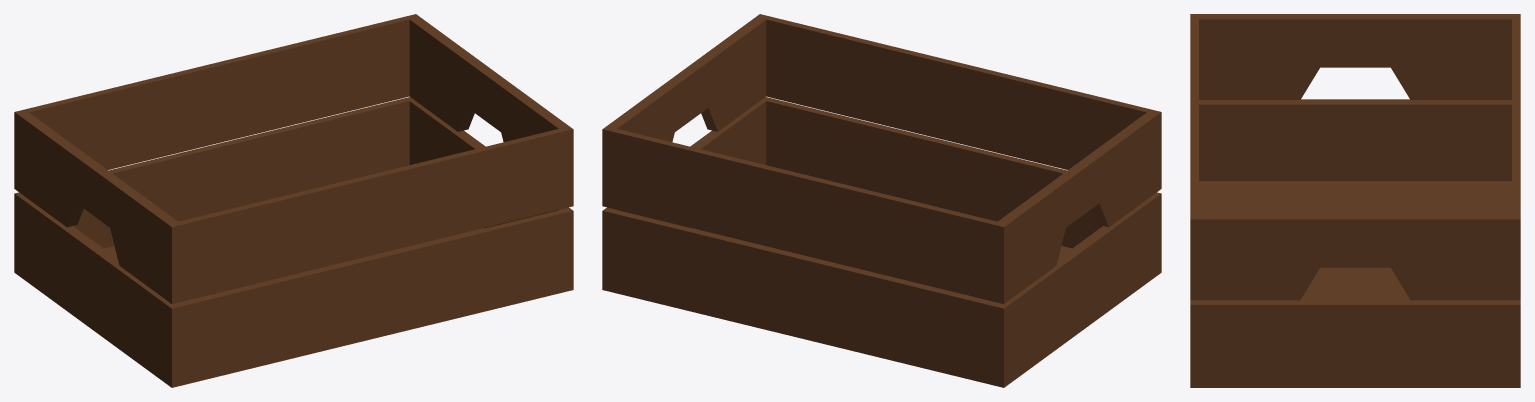
Rendered from Crate4.fbx.
The picture shows the model from 3 angles, left to right: view 1: azimuth 30°, elevation 25°; view 2: azimuth 150°, elevation 25°; view 3: azimuth 270°, elevation 25°; orthographic projection. The views are drawn at different scales.
Visible parts, largest first — view 1: Crate 4; view 2: Crate 4; view 3: Crate 4.
Part boxes in pixels (x1,y1,x2,y2): Crate 4: (14,14,573,387); Crate 4: (602,14,1161,387); Crate 4: (1190,14,1520,387).
Bounding box in the file's own units: 73.45 × 28.1 × 49.89.
